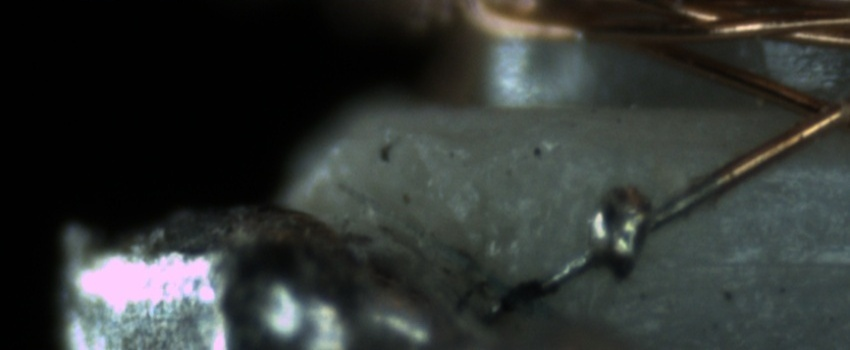CL: (779, 78, 847, 145)
DL: (634, 230, 849, 294), (757, 148, 849, 212)
TB: (587, 186, 663, 288)
TS: (499, 173, 728, 313)
TTCW: (466, 149, 764, 323)
